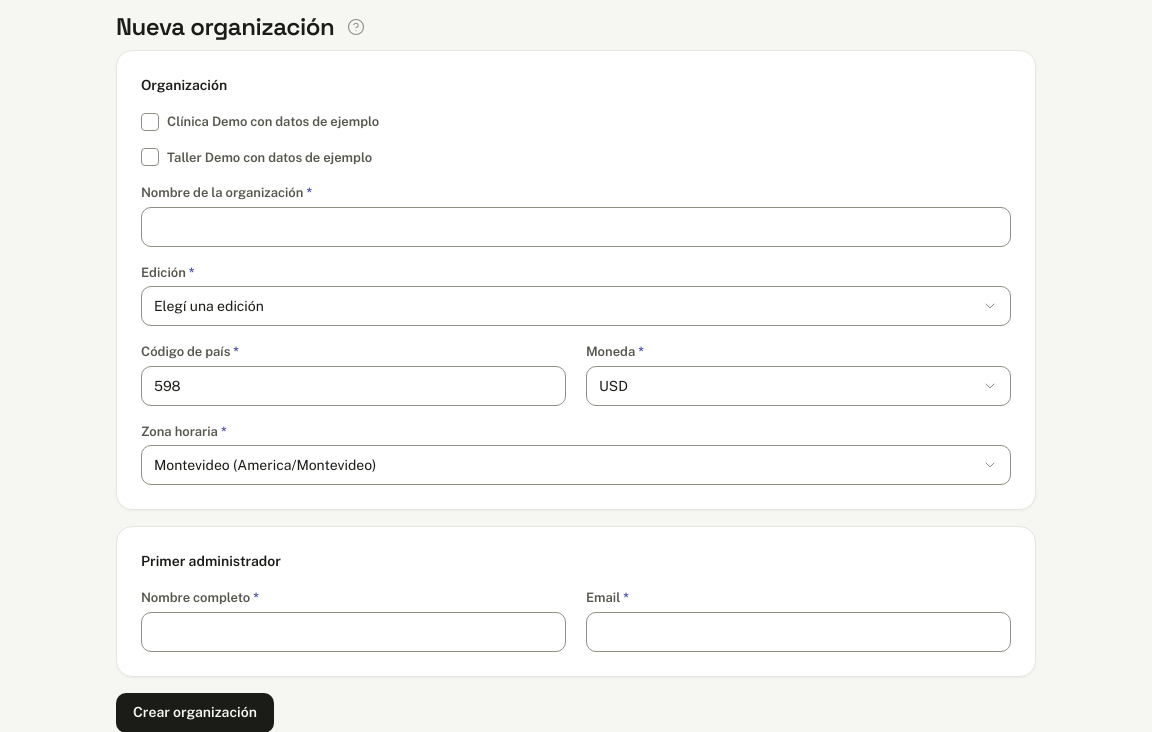
Test: NewOrganizationPage › con dos ediciones disponibles (PR 5): selector obligatorio sin preselección, y manda la elegida
The image size is (1152, 732).
Select "Esencial" in the dropdown labelled "Edición" at x=576, y=306, box 141,286 -> 1011,326
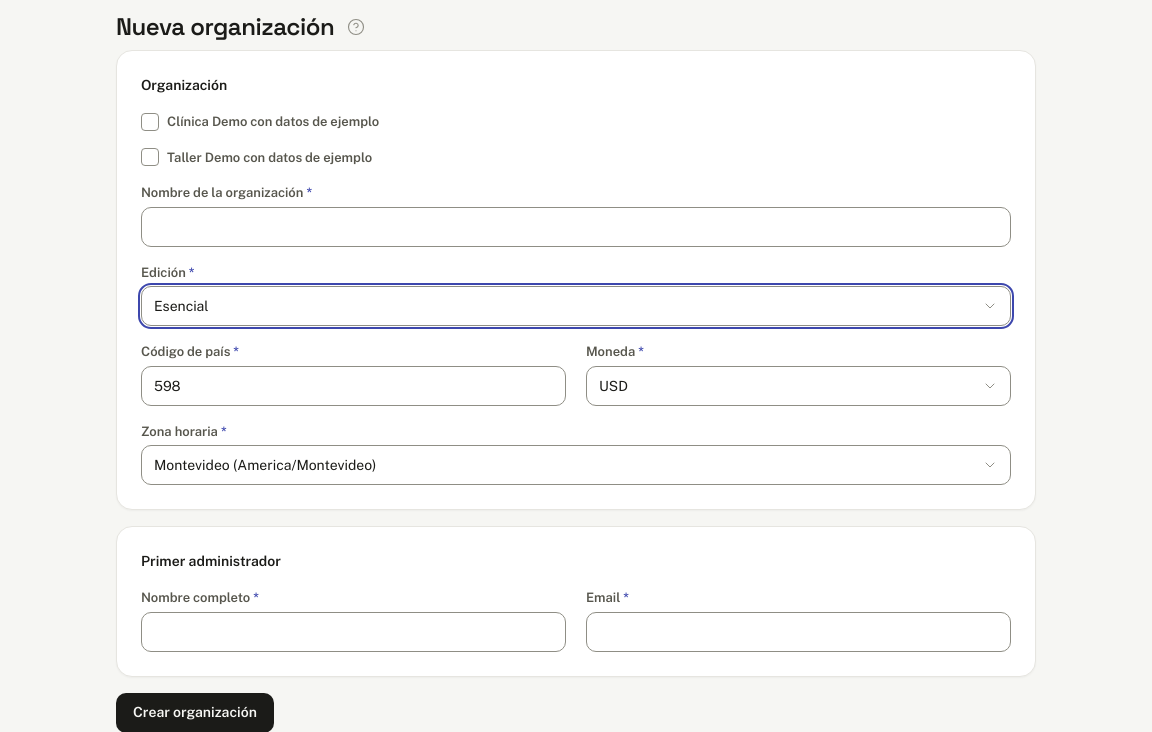
Type "Automotora Pérez" into the field labelled "Nombre de la organización" at x=576, y=226, box 141,206 -> 1011,246
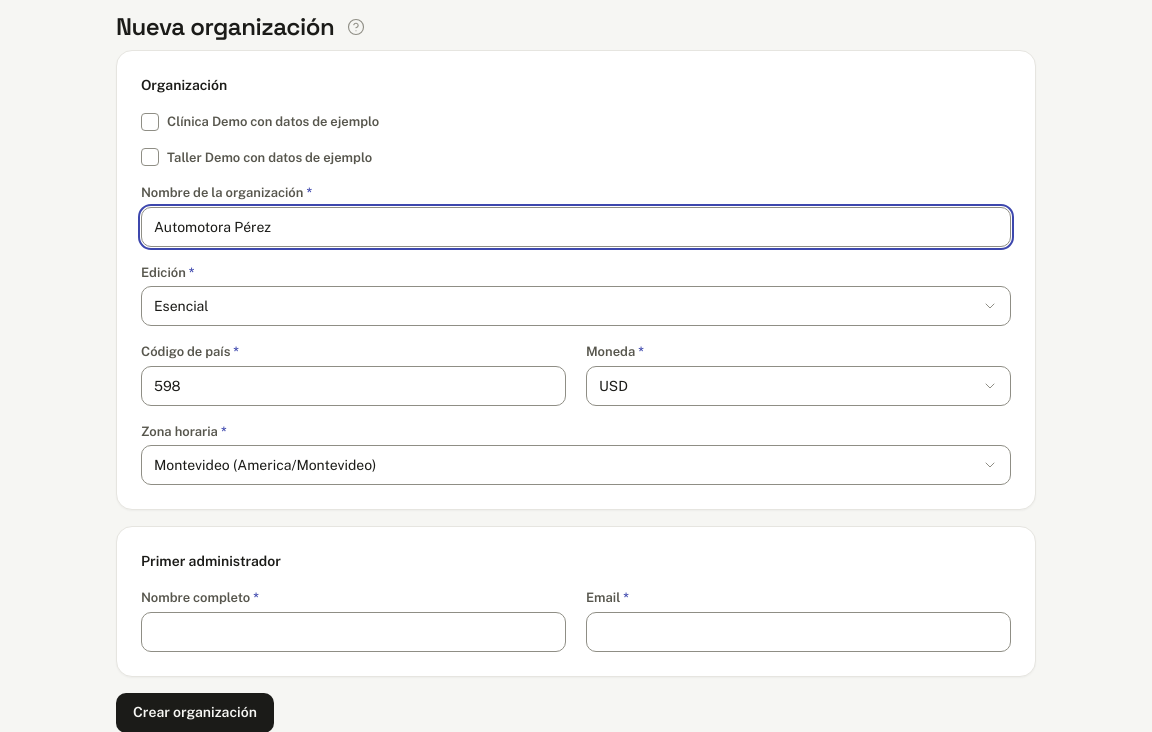
Type "Juan Pérez" into the field labelled "Nombre completo" at x=354, y=632, box 141,612 -> 566,652
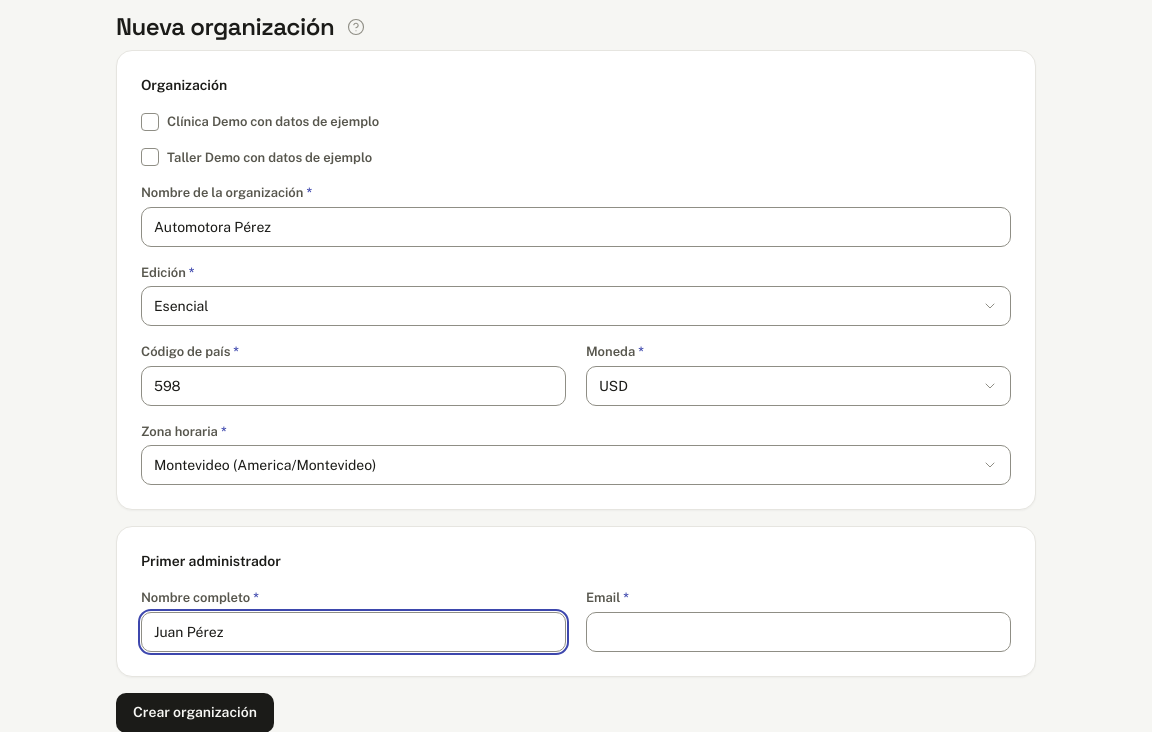
Type "juan@perez.test" into the field labelled "Email" at x=798, y=632, box 586,612 -> 1011,652
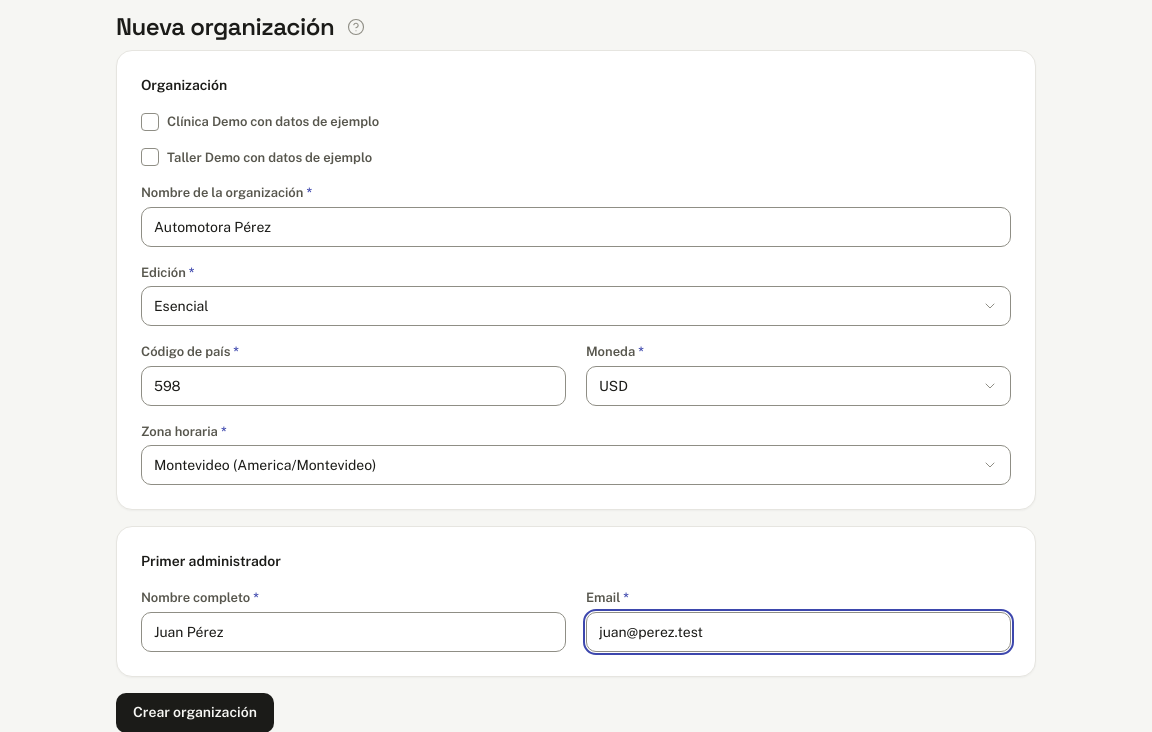
Click the button "Crear organización" at x=195, y=712, box 116,692 -> 274,731
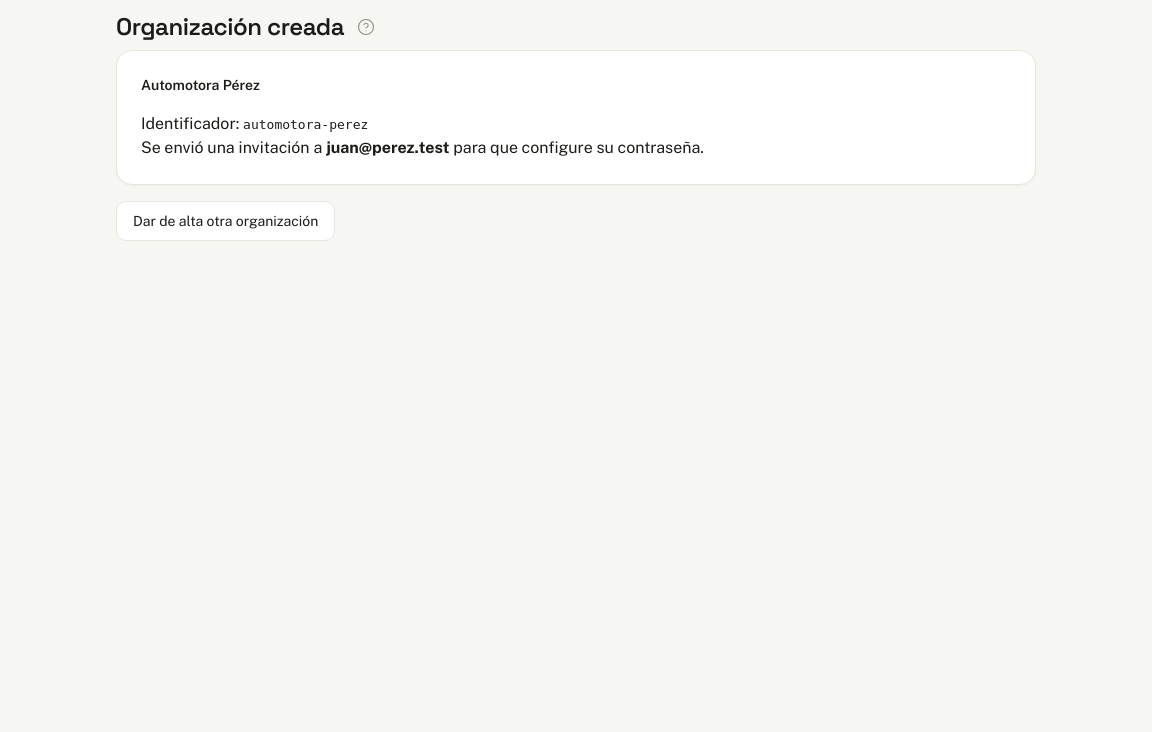
Now the heading "Organización creada" is shown, box 116,12 -> 344,42
